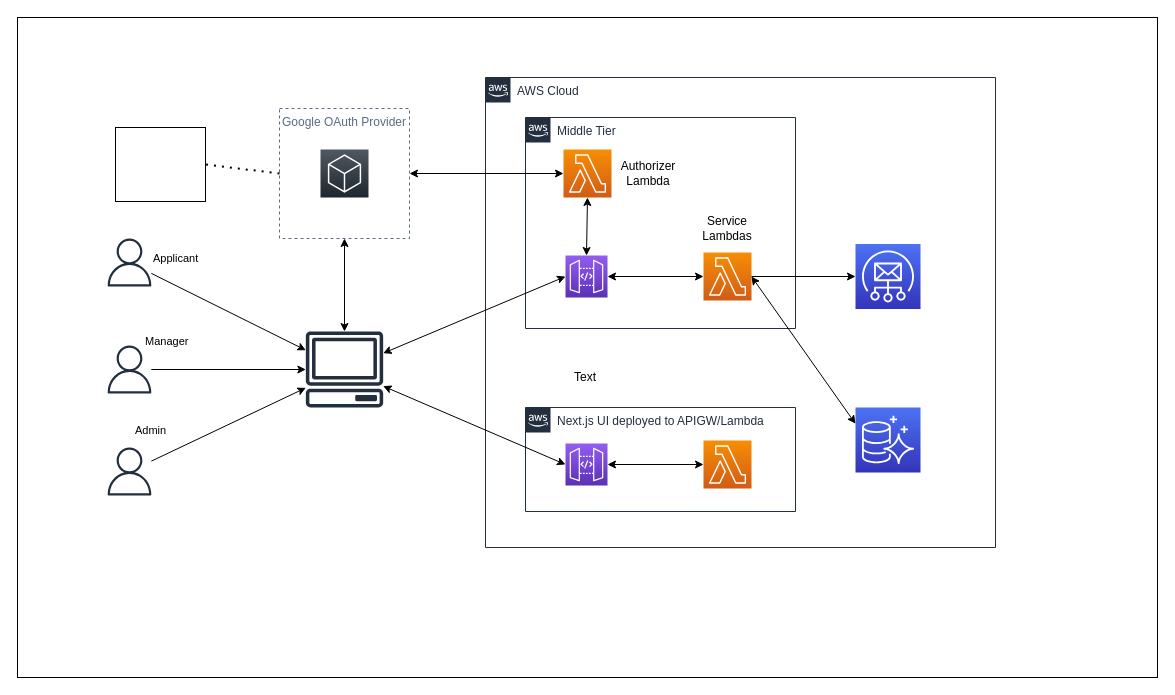
Image size: 1175x695. Some labels were removed from this diagram. The shapes that lost their labels are listed below. From the top down, each one's centre as x and y in pixels, then its label:
At [160,164]: "Applicant does not need to be authenticated".
At [344,369]: "SPA".
